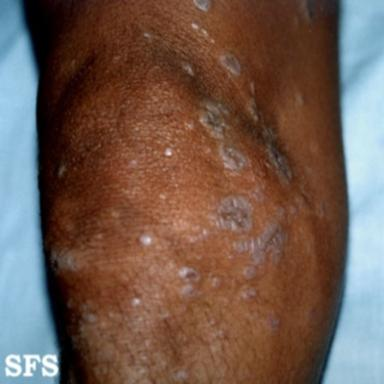lichen: (234, 221, 286, 266), (261, 125, 292, 183), (216, 195, 252, 231), (199, 99, 229, 140), (220, 146, 247, 170), (51, 252, 80, 274), (219, 51, 241, 77), (179, 267, 200, 282), (247, 185, 264, 202), (249, 98, 259, 122), (181, 284, 199, 297), (193, 0, 211, 11), (242, 288, 257, 300), (243, 266, 256, 279), (140, 235, 151, 246), (184, 64, 194, 76), (211, 277, 221, 287), (277, 207, 285, 219), (250, 81, 255, 95), (289, 206, 297, 214)
